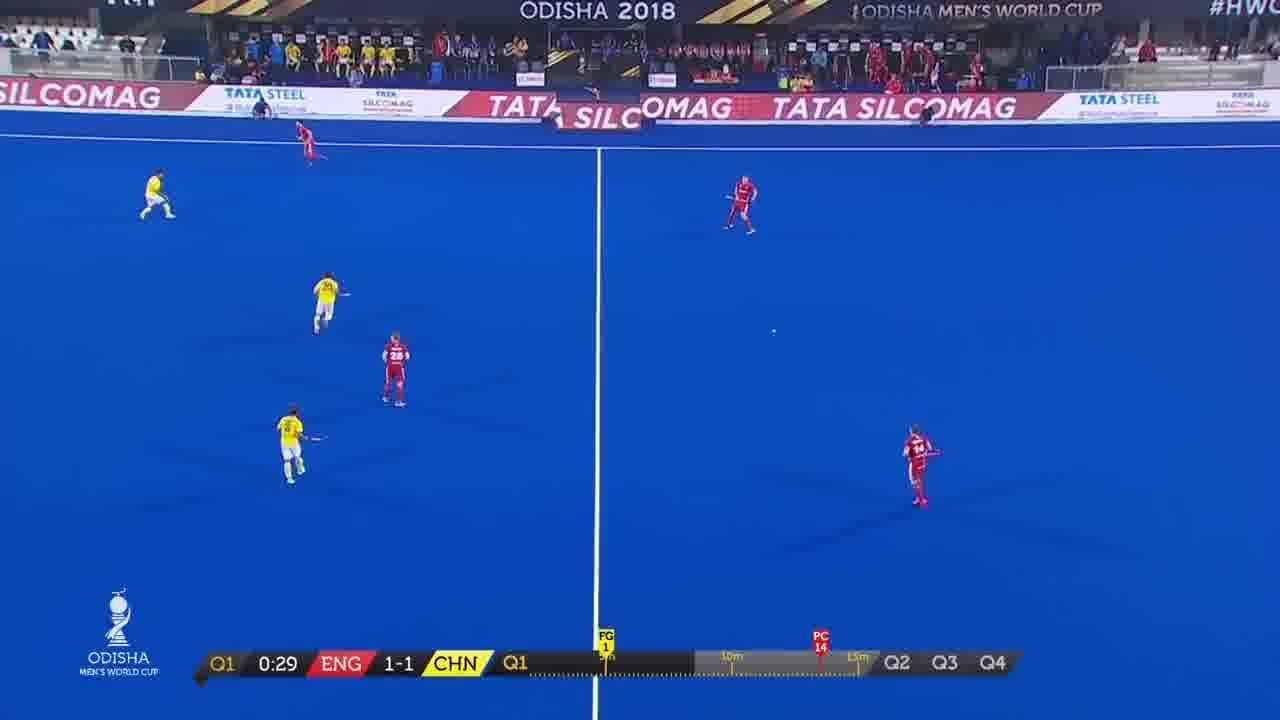ball: (766, 324, 779, 339)
